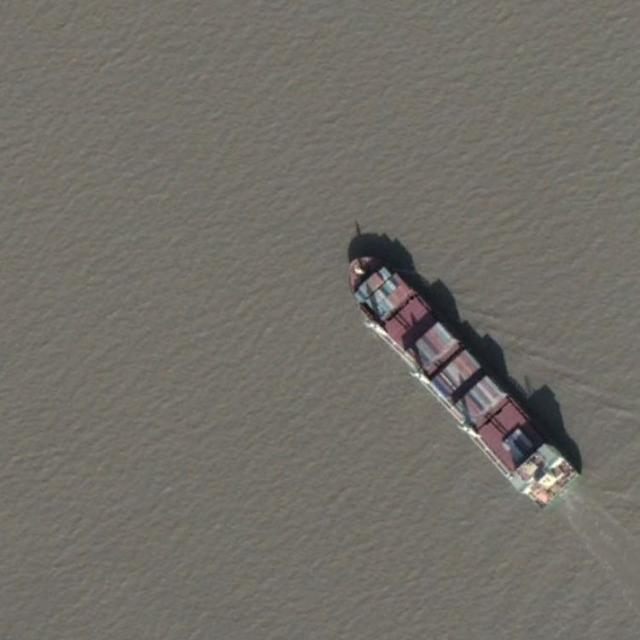ship: (344, 243, 582, 514)
